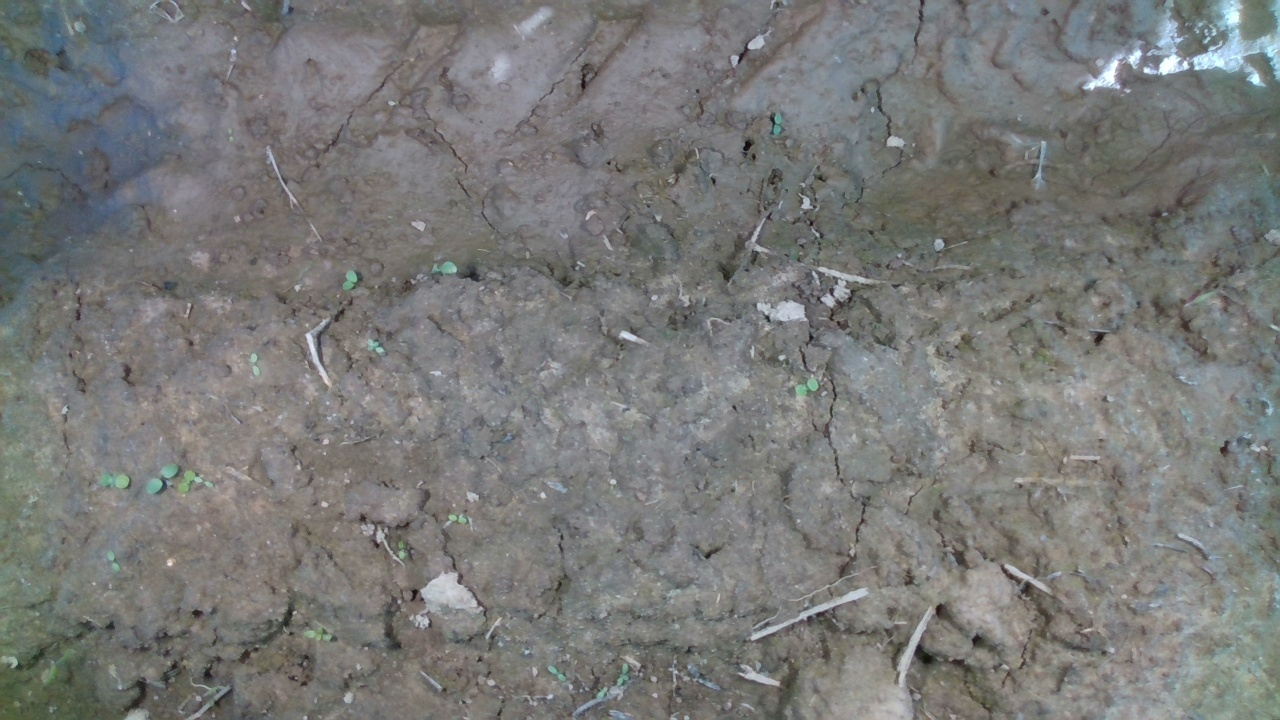weed: (148, 458, 182, 500), (790, 371, 824, 400), (97, 466, 133, 492), (337, 266, 362, 296), (300, 626, 336, 642), (442, 507, 474, 524), (362, 336, 389, 354), (393, 540, 410, 561)
